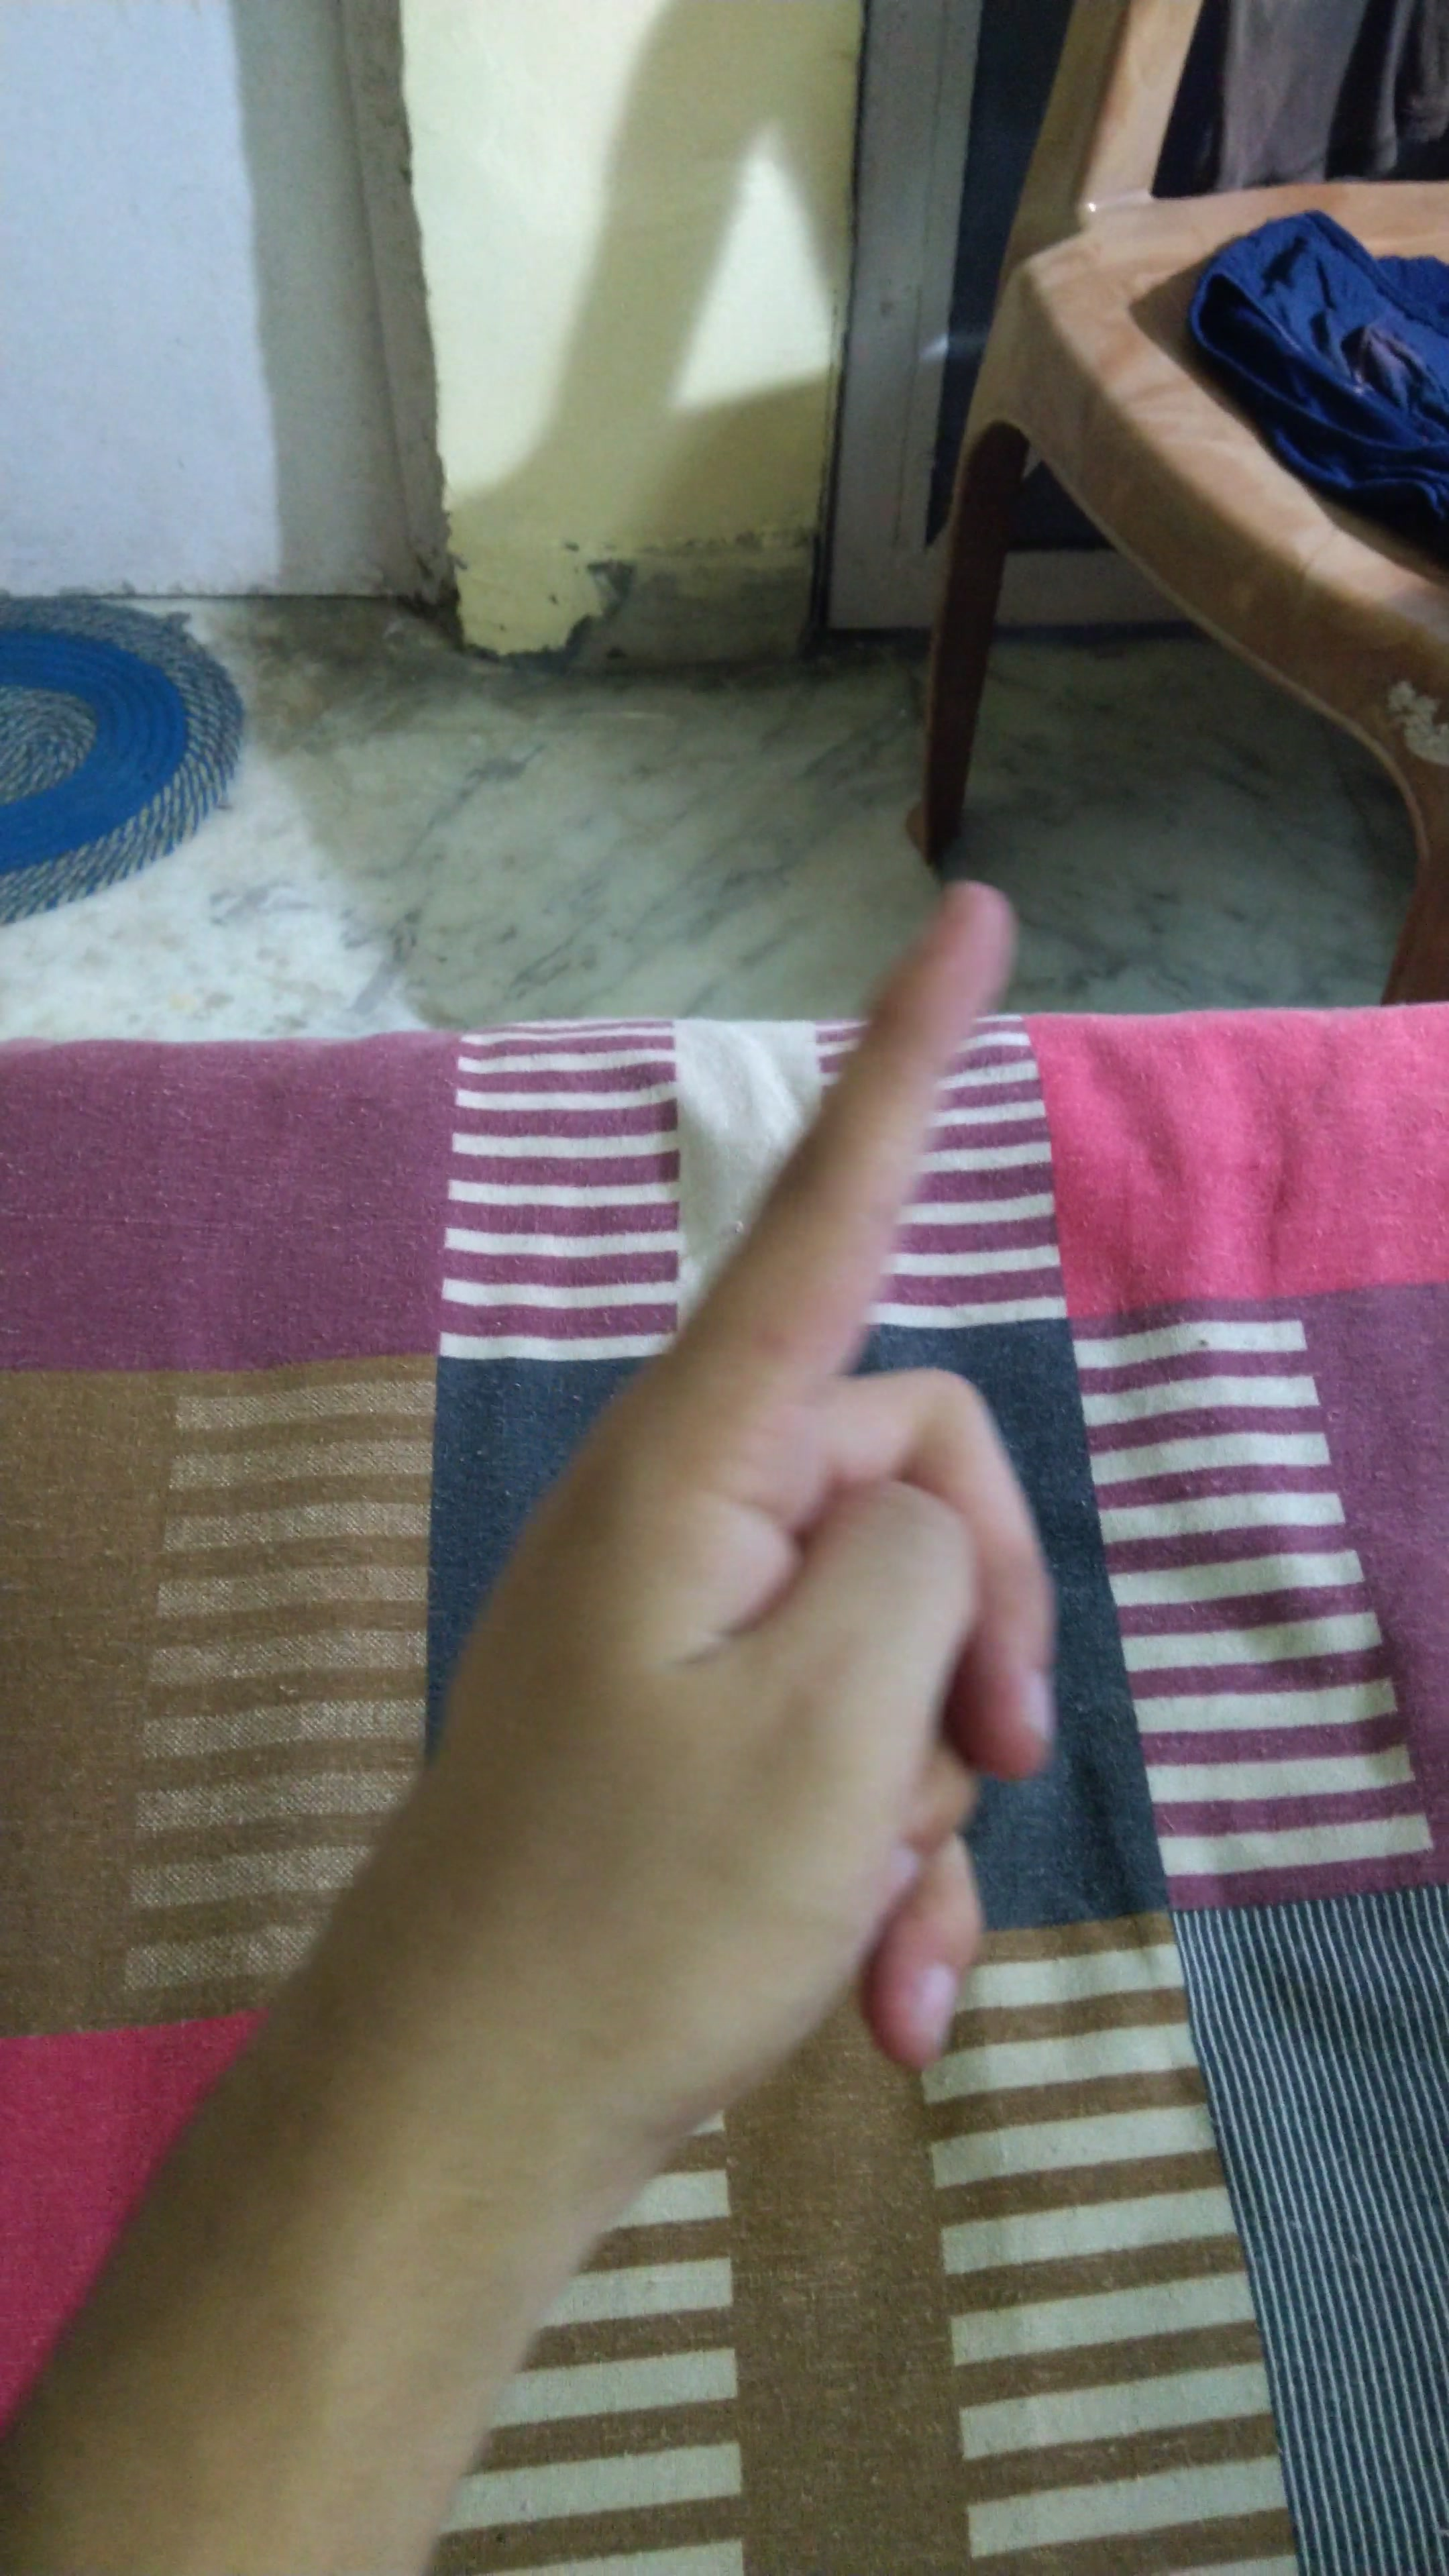hand: (393, 816, 1125, 2222)
